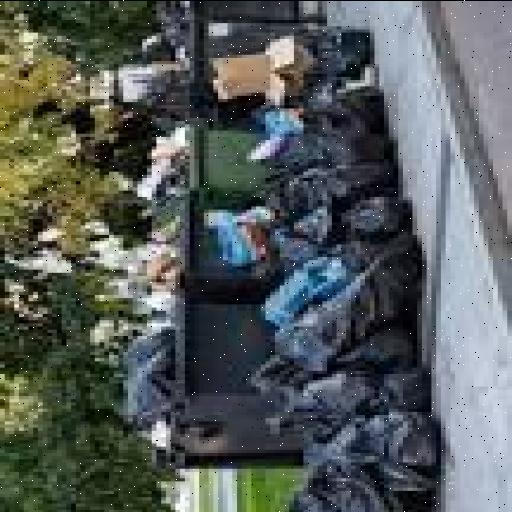poubelle_vide: (134, 287, 414, 487), (134, 116, 426, 277)
